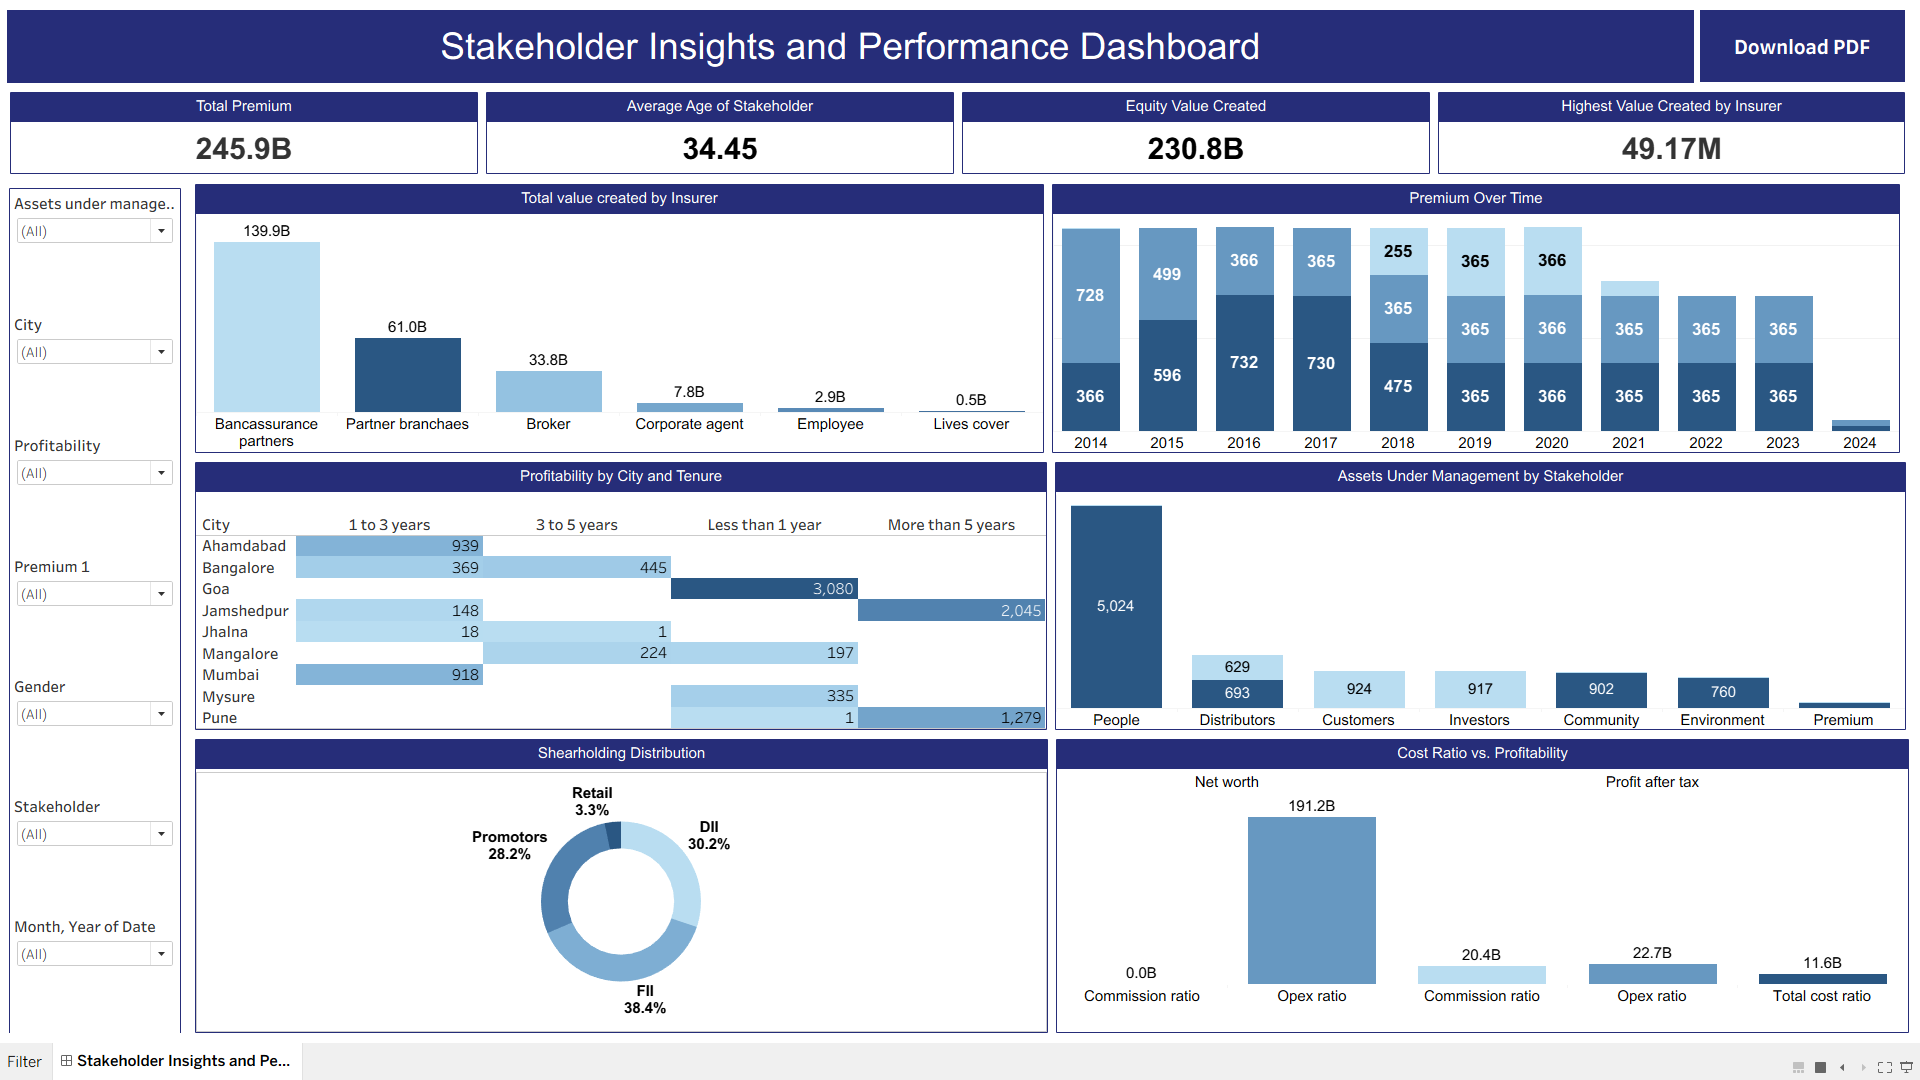

Layout of this report page (visuals, bound fields, positions):
{"tool":"tableau","page":{"name":"Stakeholder Insights and Performance Dashboard ","canvas":[1000,1000],"units":"permille","ordinal":0},"visuals":[{"type":"text","box":[3.6,9.4,878.7,70.5]},{"type":"dashboard-object","box":[885.3,9.4,107,69.3]},{"type":"worksheet","title":"KPI1","mark":"Automatic","box":[3,84.6,247.9,85.8]},{"type":"worksheet","title":"KPI2","mark":"Automatic","box":[250.9,84.6,247.9,85.8]},{"type":"worksheet","title":"KPI3","mark":"Automatic","box":[498.8,84.6,247.9,85.8]},{"type":"worksheet","title":"KPI4","mark":"Automatic","box":[746.7,84.6,247.3,85.8]},{"type":"worksheet","title":"Total value created by Insurer","mark":"Automatic","rows":["Value Created"],"cols":["Insurer"],"box":[99.3,172.7,446.5,265.6]},{"type":"worksheet","title":"Premium Over Time","mark":"Bar","rows":["Premium 1"],"cols":["Date"],"box":[545.8,172.7,445.9,265.6]},{"type":"filter","title":"Assets Under  Management by Stakeholder","param":"[federated.13irakq01s70yw181eift1d3ycs5].[none:Assets under management:nk]","box":[5.4,181,88.6,116.3]},{"type":"filter","title":"Assets Under  Management by Stakeholder","param":"[federated.13irakq01s70yw181eift1d3ycs5].[none:City:nk]","box":[5.4,297.3,88.6,116.3]},{"type":"filter","title":"Assets Under  Management by Stakeholder","param":"[federated.13irakq01s70yw181eift1d3ycs5].[none:Profitability:nk]","box":[5.4,413.6,88.6,115.2]},{"type":"worksheet","title":"Profitability by City and Tenure","mark":"Square","rows":["City"],"cols":["Policy tenuer"],"box":[99.3,439.5,447.7,264.4]},{"type":"worksheet","title":"Assets Under  Management by Stakeholder","mark":"Automatic","rows":["Assets under management"],"cols":["Stakeholder"],"box":[547,439.5,447.7,264.4]},{"type":"filter","title":"Assets Under  Management by Stakeholder","param":"[federated.13irakq01s70yw181eift1d3ycs5].[none:Premium 1:nk]","box":[5.4,528.8,88.6,115.2]},{"type":"filter","title":"Assets Under  Management by Stakeholder","param":"[federated.13irakq01s70yw181eift1d3ycs5].[none:Gender:nk]","box":[5.4,644,88.6,115.2]},{"type":"worksheet","title":"Shearholding Distribution","mark":"Pie","rows":["Calculation_0921708202991616","Calculation_0921708202991616"],"box":[99.3,705.1,448.9,289.1]},{"type":"worksheet","title":"Cost Ratio vs. Profitability","mark":"Automatic","rows":["Value Created"],"cols":["Profitability","Cost ratio"],"box":[548.2,705.1,448.3,289.1]},{"type":"filter","title":"Assets Under  Management by Stakeholder","param":"[federated.13irakq01s70yw181eift1d3ycs5].[none:Stakeholder:nk]","box":[5.4,759.1,88.6,115.2]},{"type":"filter","title":"Assets Under  Management by Stakeholder","param":"[federated.13irakq01s70yw181eift1d3ycs5].[my:Date:ok]","box":[5.4,874.3,88.6,115.2]}]}

Visuals, with their boxes on the dashboard's canvas, which has no fixed pixel size, in thousandths of its width and height (x1, y1, x2, y2). These are canvas units, not pixel positions in the 1920x1080 screenshot, which may show the page scaled, cropped or inside an application window:
text: crop(4, 9, 882, 80)
dashboard-object: crop(885, 9, 992, 79)
"KPI1" worksheet: crop(3, 85, 251, 170)
"KPI2" worksheet: crop(251, 85, 499, 170)
"KPI3" worksheet: crop(499, 85, 747, 170)
"KPI4" worksheet: crop(747, 85, 994, 170)
"Total value created by Insurer" worksheet: crop(99, 173, 546, 438)
"Premium Over Time" worksheet (Bar marks): crop(546, 173, 992, 438)
"Assets Under  Management by Stakeholder" filter: crop(5, 181, 94, 297)
"Assets Under  Management by Stakeholder" filter: crop(5, 297, 94, 414)
"Assets Under  Management by Stakeholder" filter: crop(5, 414, 94, 529)
"Profitability by City and Tenure" worksheet (Square marks): crop(99, 440, 547, 704)
"Assets Under  Management by Stakeholder" worksheet: crop(547, 440, 995, 704)
"Assets Under  Management by Stakeholder" filter: crop(5, 529, 94, 644)
"Assets Under  Management by Stakeholder" filter: crop(5, 644, 94, 759)
"Shearholding Distribution" worksheet (Pie marks): crop(99, 705, 548, 994)
"Cost Ratio vs. Profitability" worksheet: crop(548, 705, 996, 994)
"Assets Under  Management by Stakeholder" filter: crop(5, 759, 94, 874)
"Assets Under  Management by Stakeholder" filter: crop(5, 874, 94, 990)
